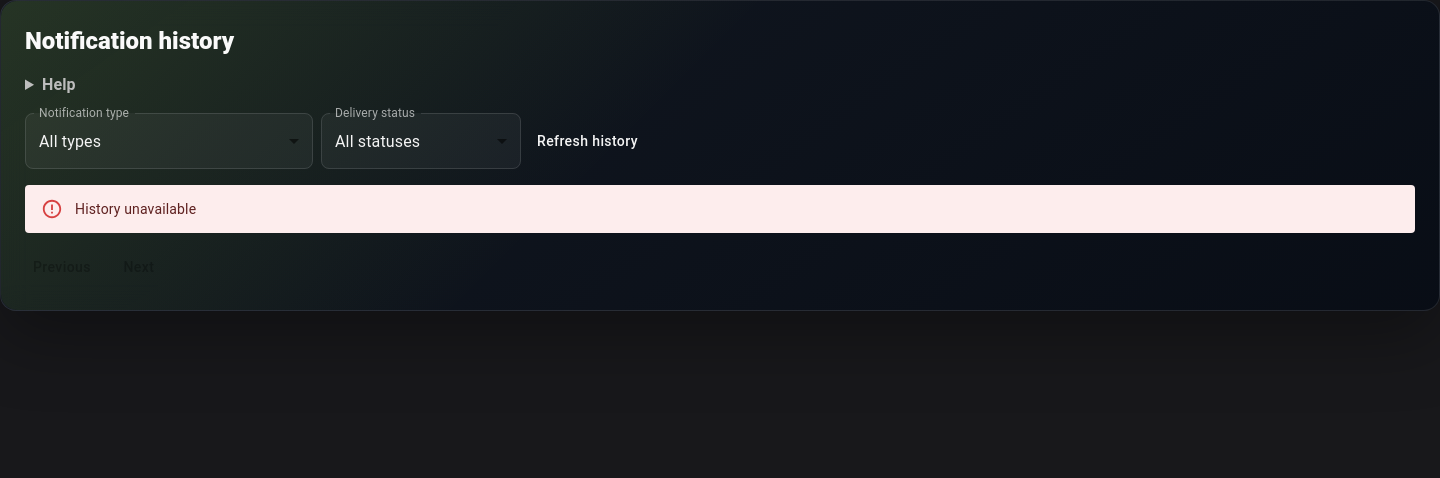
Scenario: personal notification history panel › shows failures and permits an explicit retry
This screenshot has width=1440, height=478.
What coordinates should you click on to do the following:
click the button "Refresh history"
I would click on:
 (587, 141)
Its box is [529,113,646,169].
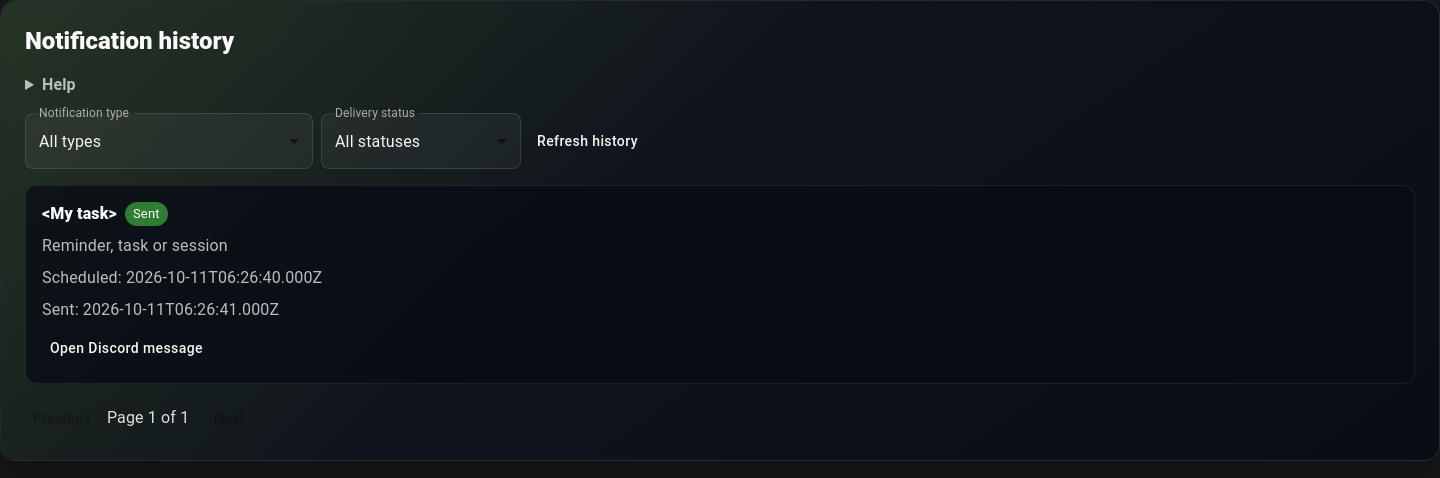
Expected: the text "History unavailable" is gone
